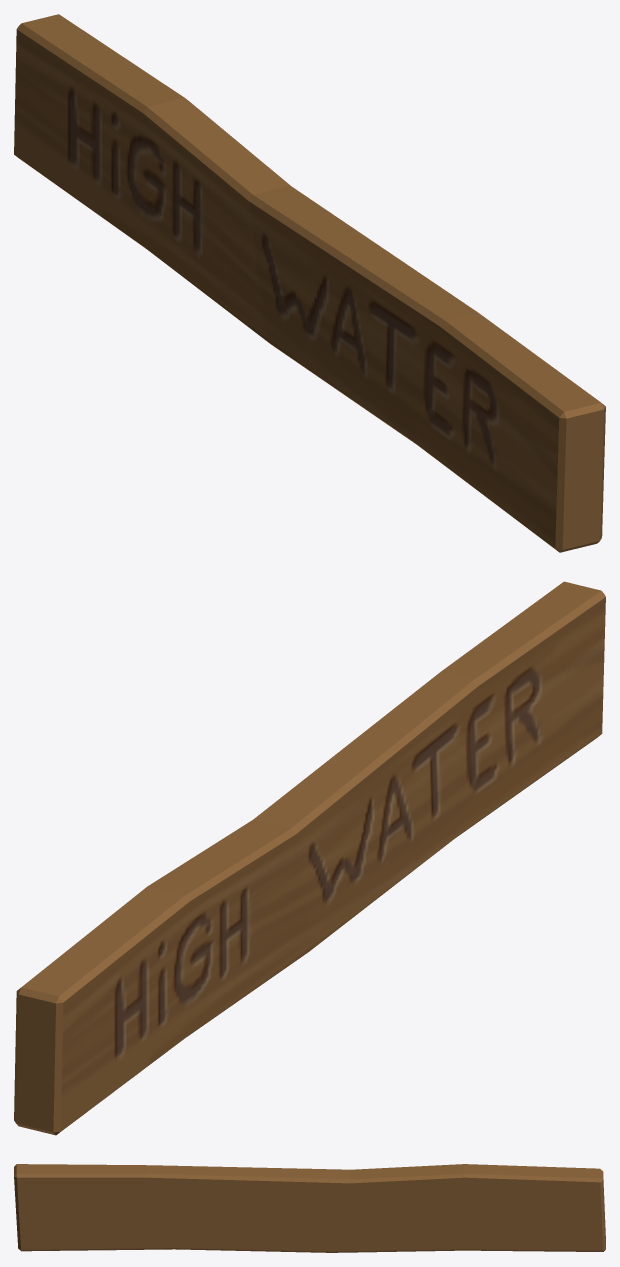
The model's file is 3D_panel_high_water.fbx.
3 views of the same model, one above another, from view 1: azimuth 30°, elevation 25°; view 2: azimuth 150°, elevation 25°; view 3: azimuth 270°, elevation 25° (orthographic). The views are drawn at different scales.
Visible parts, largest first — view 1: Panel Name; view 2: Panel Name; view 3: Panel Name.
Part boxes in pixels (x1,y1,x2,y2): Panel Name: (14,14,605,552); Panel Name: (14,581,605,1135); Panel Name: (14,1164,605,1252).
Size of the model in its own units: 0.2 by 0.6 by 4.07.
